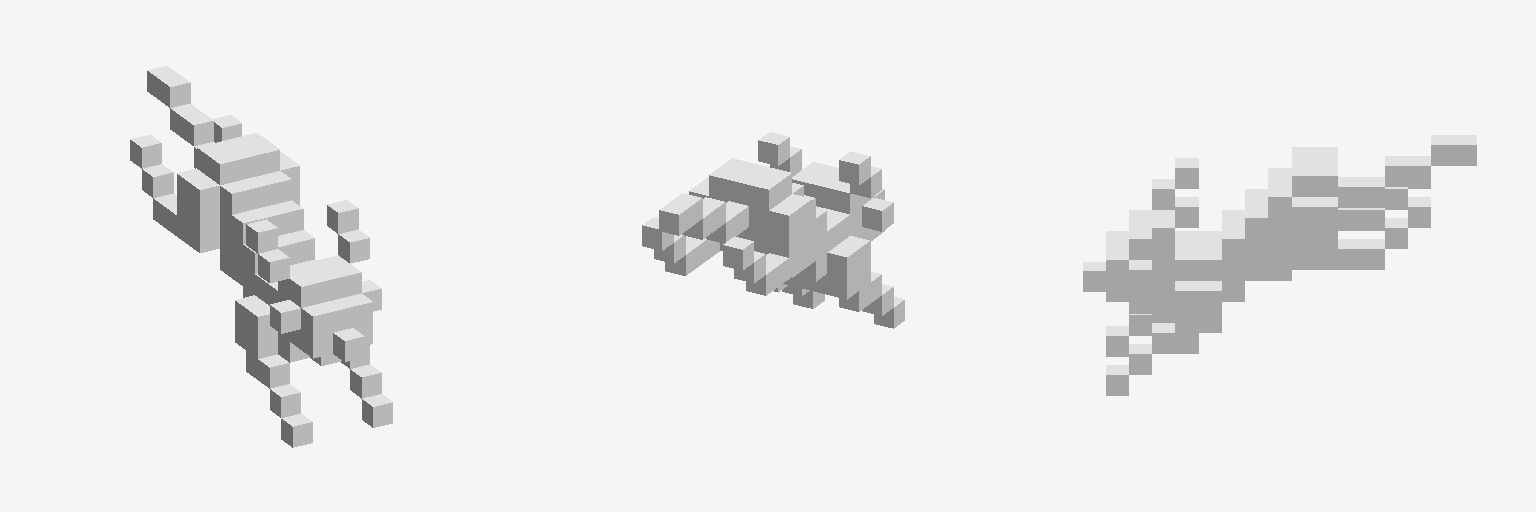
Rendered from rat_land_0.obj.
3 renders of one model, left to right at view 1: azimuth 30°, elevation 25°; view 2: azimuth 150°, elevation 25°; view 3: azimuth 270°, elevation 25°, orthographic.
Visible parts, largest first — view 1: object 1; view 2: object 1; view 3: object 1.
Boxes of the visible parts, x1=… form: object 1: x1=130, y1=66, x2=392, y2=447; object 1: x1=642, y1=132, x2=904, y2=328; object 1: x1=1083, y1=135, x2=1476, y2=395.
Size of the model in its own units: 0.5 by 1.1 by 1.7.